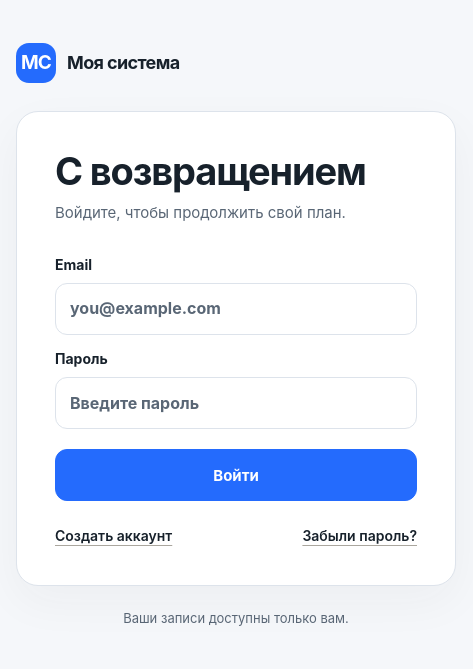
Scenario: failed sign-in keeps email and shows a retryable error
Type "person@example.com" into the field labelled "Email".
click(236, 309); type("person@example.com")  # box [55,283,417,335]
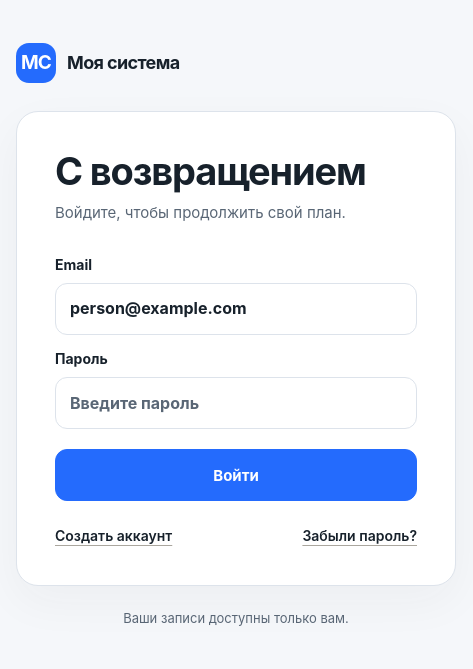
Type "long password here" into the password field labelled "Пароль".
click(236, 403); type("long password here")  # box [55,377,417,429]
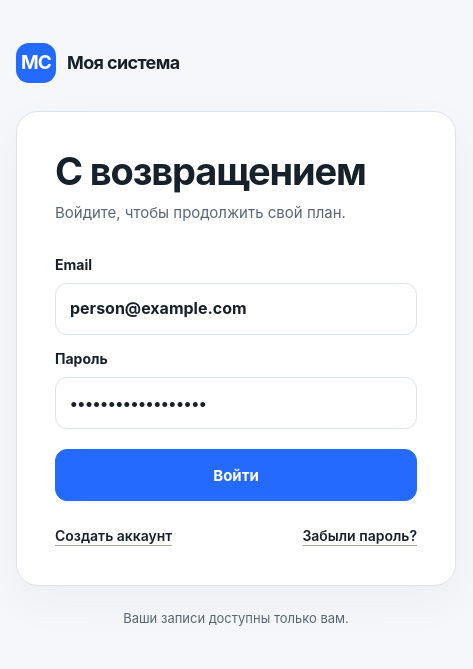
Click the button "Войти".
click(236, 475)  # box [55,449,417,501]
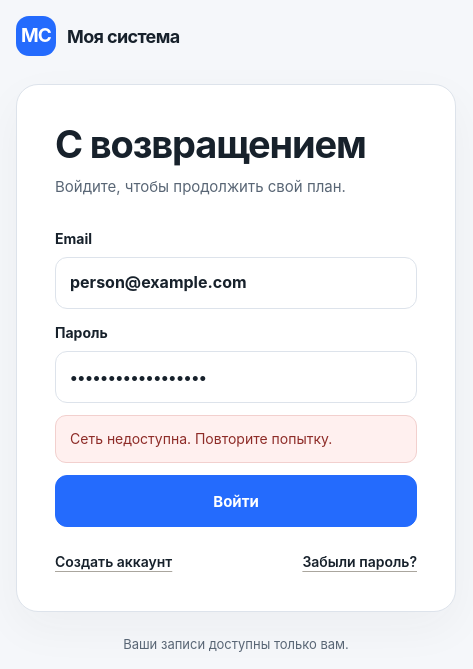
Expected: the button "Войти" is enabled, [55,475,417,527]
Result: the message shows "Сеть недоступна" at [70,430,332,447]
